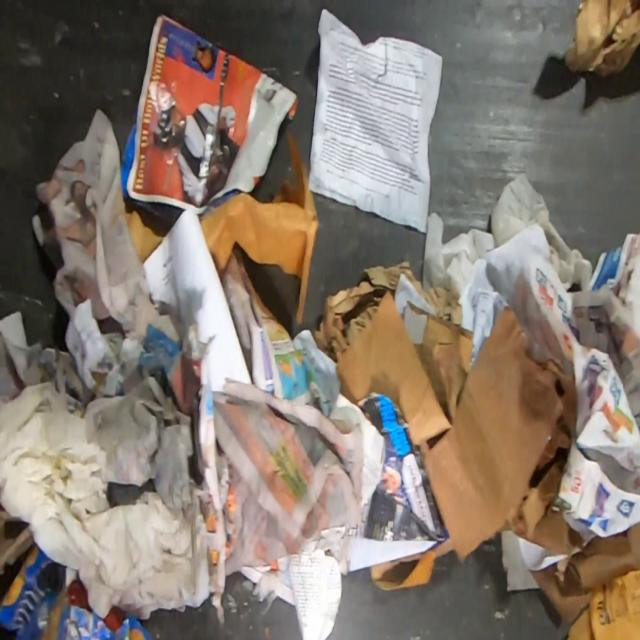cardboard: (418, 306, 585, 564), (336, 273, 474, 448), (526, 519, 640, 625), (562, 0, 639, 80)
soft_plastic: (0, 543, 156, 639)
